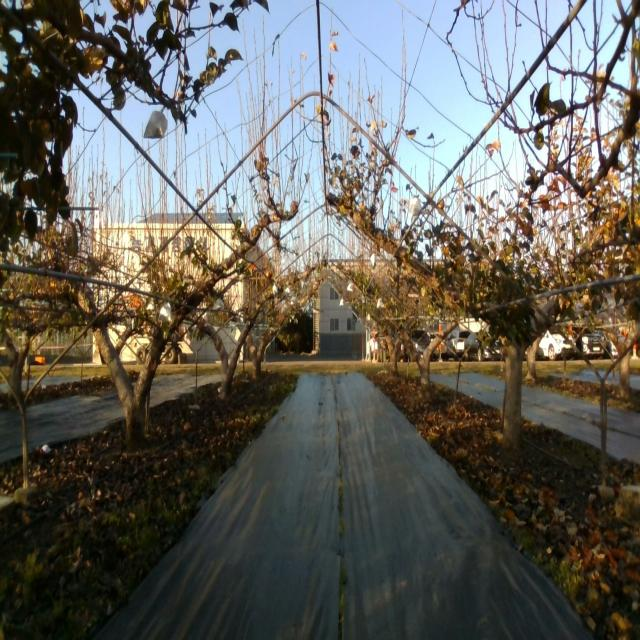pearbags: (143, 110, 168, 139), (408, 198, 424, 224), (158, 302, 172, 324)
